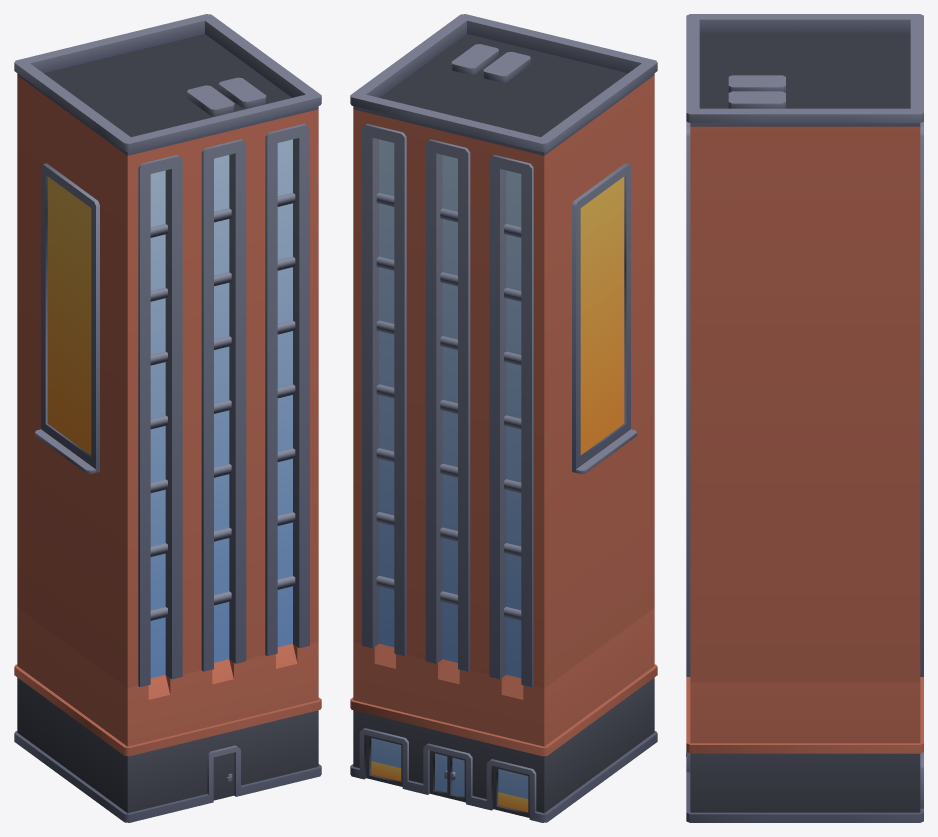
File: building-skyscraper-e-b.glb
The picture shows the model from 3 angles, left to right: view 1: azimuth 30°, elevation 25°; view 2: azimuth 150°, elevation 25°; view 3: azimuth 270°, elevation 25°; orthographic projection. The views are drawn at different scales.
Visible parts, largest first — view 1: building-skyscraper-e; view 2: building-skyscraper-e; view 3: building-skyscraper-e.
Boxes of the visible parts, left/top/right/bottom form: building-skyscraper-e: left=14, top=14, right=321, bottom=822; building-skyscraper-e: left=350, top=14, right=657, bottom=822; building-skyscraper-e: left=686, top=14, right=923, bottom=822.
Bounding box in the file's own units: 1.29 × 4.08 × 1.24.
Materials: 1 (1 with a texture image).
